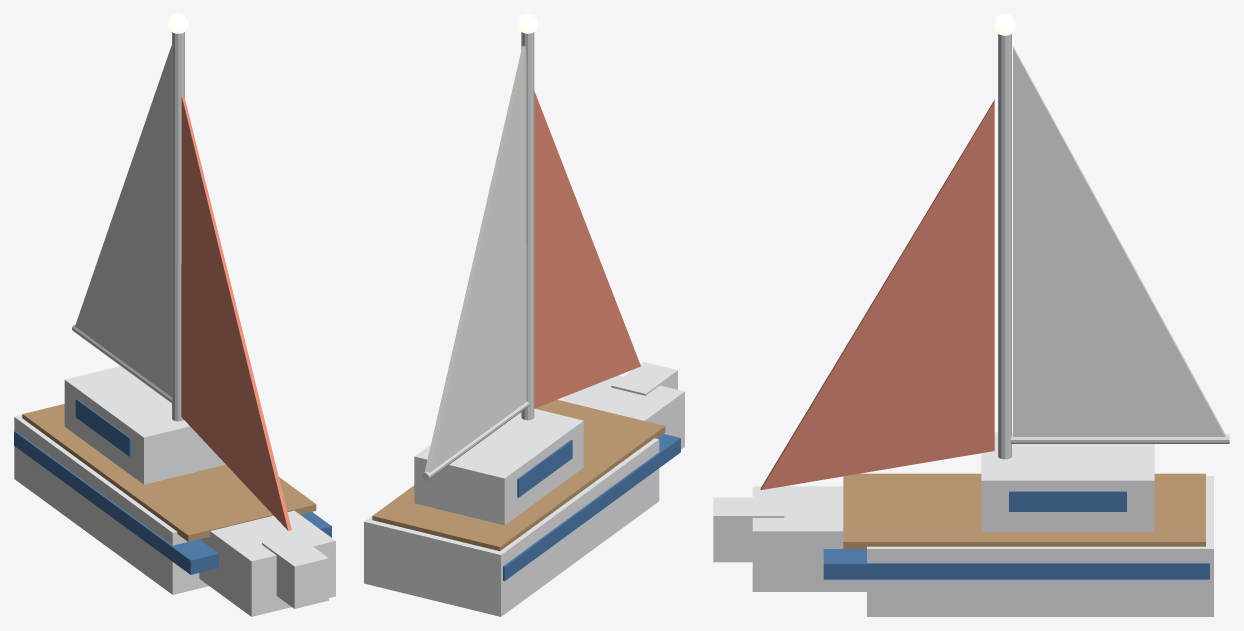
The model's file is sailboat.glb.
3 views of the same model, side by side, from view 1: azimuth 30°, elevation 25°; view 2: azimuth 150°, elevation 25°; view 3: azimuth 270°, elevation 25° (orthographic). The views are drawn at different scales.
Parts seen in each view (by area): view 1: JibSail, MainSail, Cabin, TeakDeck, HullMid, HullBow, HullStripe, Mast, HullTip, CabinWin, Boom; view 2: MainSail, HullMid, JibSail, Cabin, TeakDeck, HullBow, Mast, HullStripe, HullTip, CabinWin, Boom; view 3: MainSail, JibSail, HullMid, TeakDeck, Cabin, HullBow, HullStripe, Mast, HullTip, CabinWin, Boom.
Boxes of the visible parts, bbox=[...] form: JibSail: bbox=[181, 96, 291, 530]; MainSail: bbox=[75, 45, 171, 397]; Cabin: bbox=[64, 366, 225, 484]; TeakDeck: bbox=[22, 404, 316, 541]; HullMid: bbox=[14, 415, 309, 594]; HullBow: bbox=[199, 510, 335, 616]; HullStripe: bbox=[14, 431, 331, 574]; Mast: bbox=[172, 32, 184, 421]; HullTip: bbox=[262, 534, 328, 608]; CabinWin: bbox=[75, 399, 131, 456]; Boom: bbox=[72, 324, 171, 403]; MainSail: bbox=[425, 46, 526, 472]; HullMid: bbox=[364, 438, 659, 616]; JibSail: bbox=[534, 91, 640, 408]; Cabin: bbox=[414, 408, 583, 525]; TeakDeck: bbox=[372, 399, 665, 551]; HullBow: bbox=[561, 375, 684, 449]; Mast: bbox=[521, 32, 534, 420]; HullStripe: bbox=[503, 434, 680, 581]; HullTip: bbox=[611, 362, 677, 395]; CabinWin: bbox=[517, 439, 572, 497]; Boom: bbox=[422, 401, 528, 480]; MainSail: bbox=[1013, 46, 1225, 436]; JibSail: bbox=[760, 100, 994, 489]; HullMid: bbox=[867, 476, 1213, 616]; TeakDeck: bbox=[843, 473, 1205, 548]; Cabin: bbox=[981, 432, 1154, 531]; HullBow: bbox=[752, 486, 866, 591]; HullStripe: bbox=[823, 549, 1209, 579]; Mast: bbox=[998, 34, 1011, 459]; HullTip: bbox=[713, 497, 784, 562]; CabinWin: bbox=[1009, 491, 1126, 511]; Boom: bbox=[1010, 434, 1229, 443].
Size of the model in its own units: 2.26 by 7.92 by 6.55.
